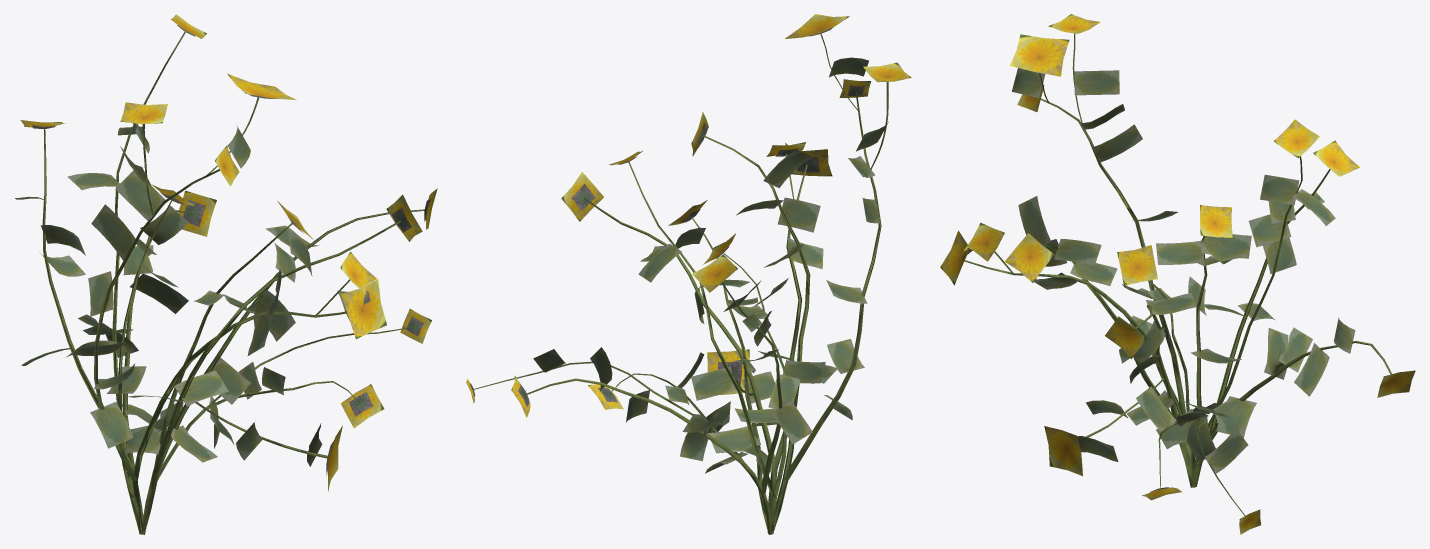
The model's file is Yellow Flowers 01 Variant 1.fbx.
The picture shows the model from 3 angles, left to right: view 1: azimuth 30°, elevation 25°; view 2: azimuth 150°, elevation 25°; view 3: azimuth 270°, elevation 25°; orthographic projection. The views are drawn at different scales.
Parts seen in each view (by area): view 1: Yellow_Flowers_01_LOD0; view 2: Yellow_Flowers_01_LOD0; view 3: Yellow_Flowers_01_LOD0.
Boxes of the visible parts, x1,y1,x2,y2 form: Yellow_Flowers_01_LOD0: (15, 14, 437, 534); Yellow_Flowers_01_LOD0: (466, 14, 911, 534); Yellow_Flowers_01_LOD0: (940, 14, 1415, 534).
Size of what is drawn, in the model's own units: 58.15 by 69.75 by 65.96.
1 material, 1 textured.
